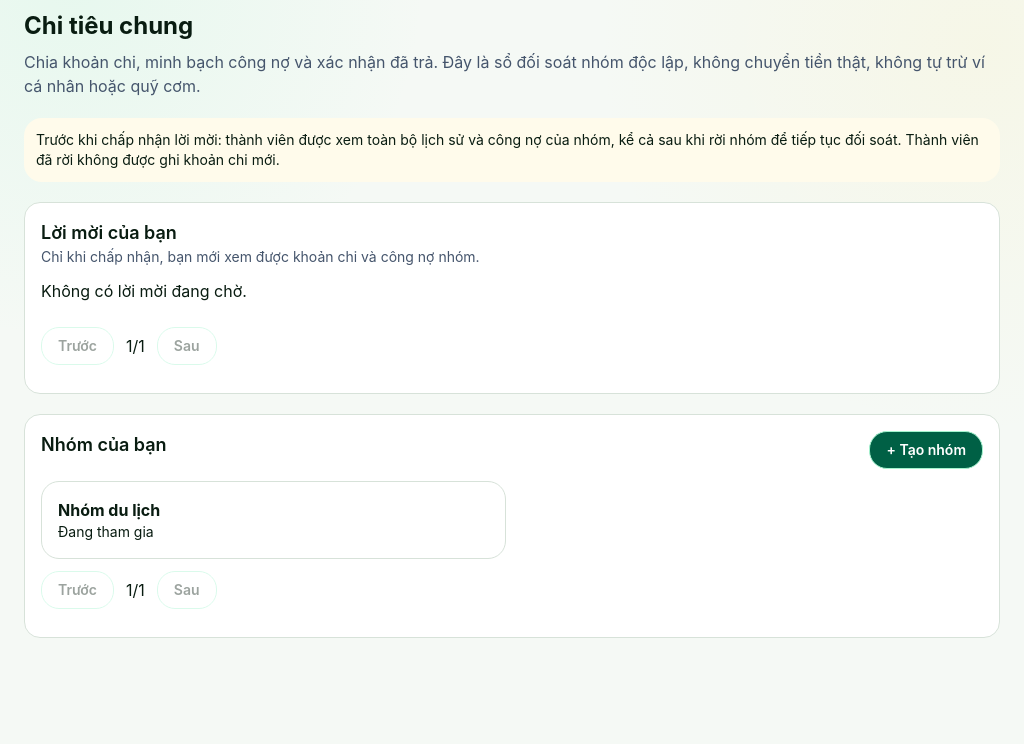
Scenario: Chi tiêu chung responsive flows › does not grant group owner controls merely because actor is ADMIN
Click the button "Nhóm du lịch Đang tham gia": x=109, y=510 [41,481,506,559]
(page scrolled)
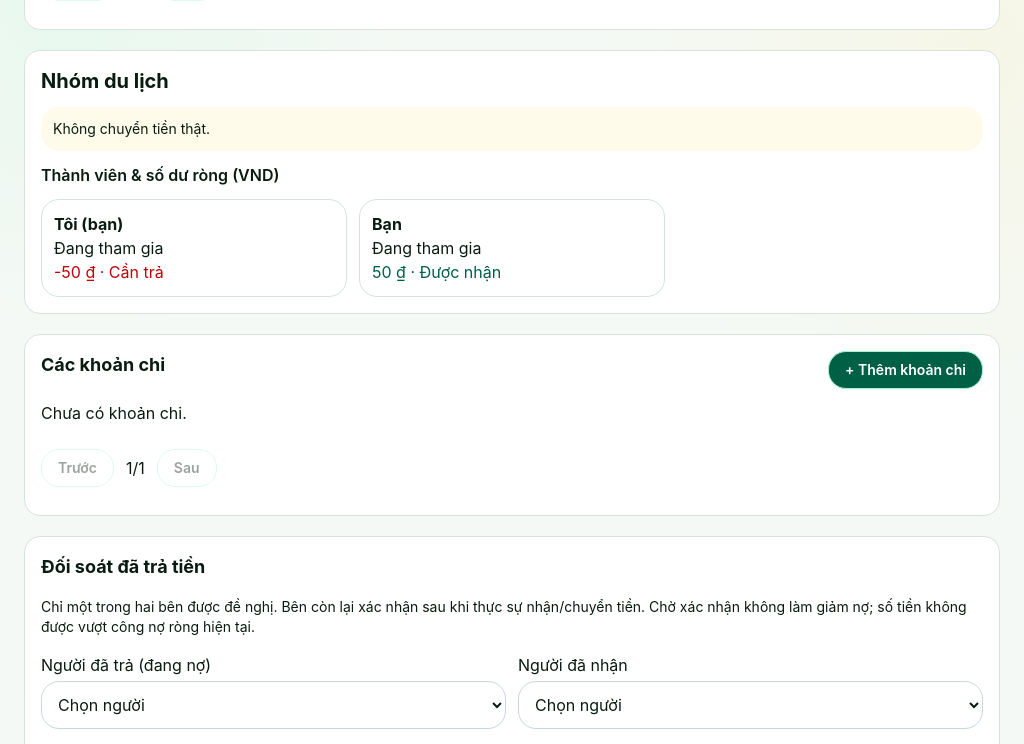
expect the heading "Nhóm du lịch" is shown: met, box [41,67,169,95]
expect the button "+ Thêm khoản chi" is shown: met, box [828,351,983,389]
